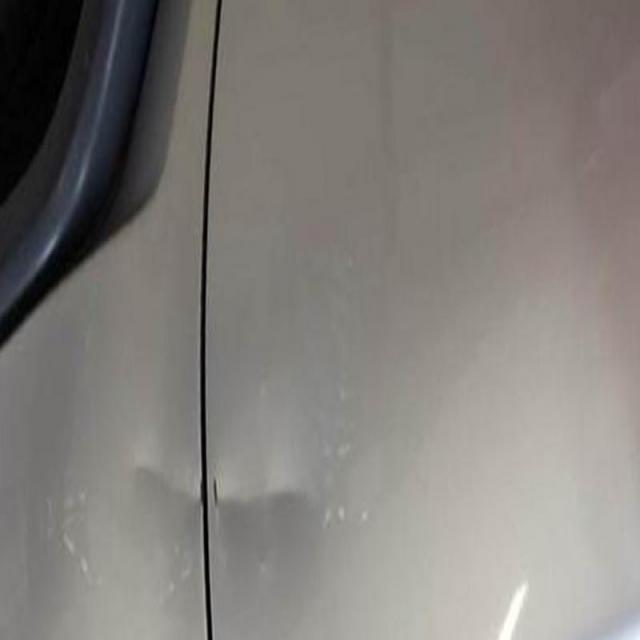dent: (108, 423, 328, 549)
